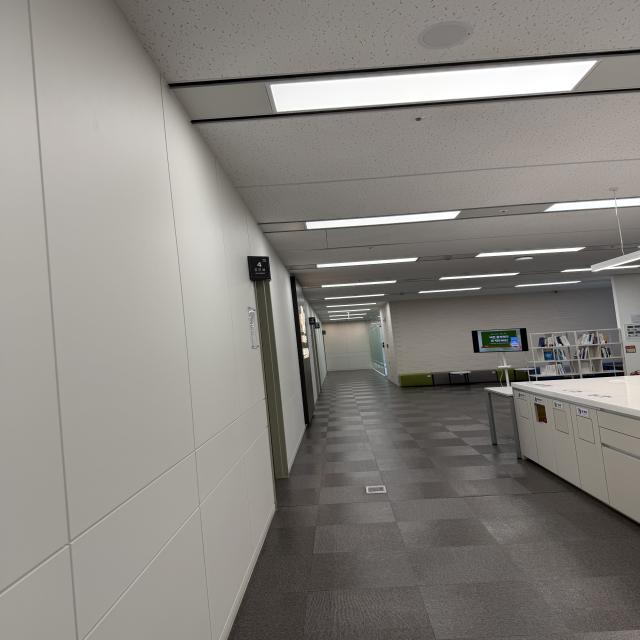room4: (248, 256, 271, 281)
